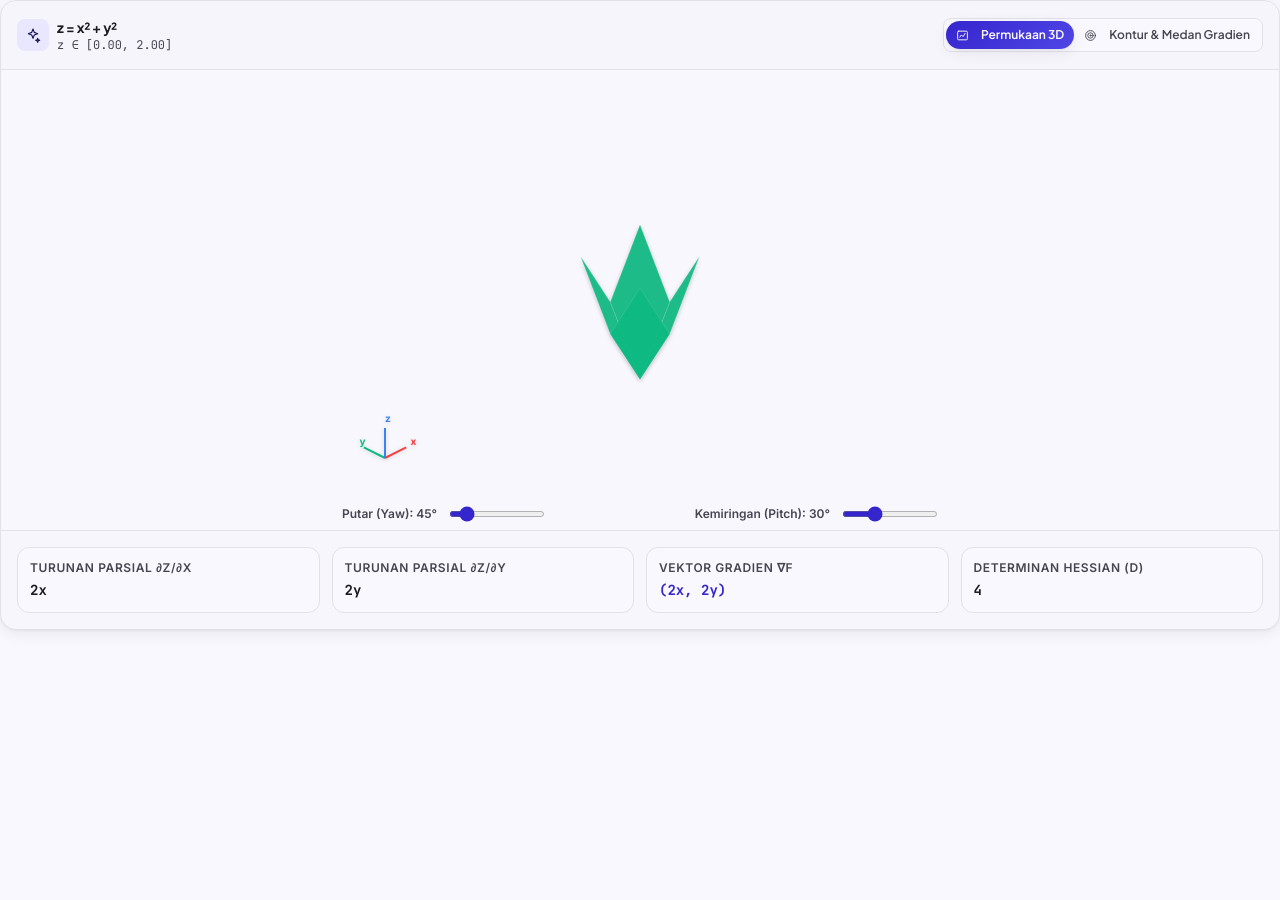
Test: MultivariablePlot › menampilkan nilai z saat kursor bergerak di peta kontur
This screenshot has width=1280, height=900.
Click the button "Kontur & Medan Gradien". click: (1167, 35)
box: [1074,21,1260,49]
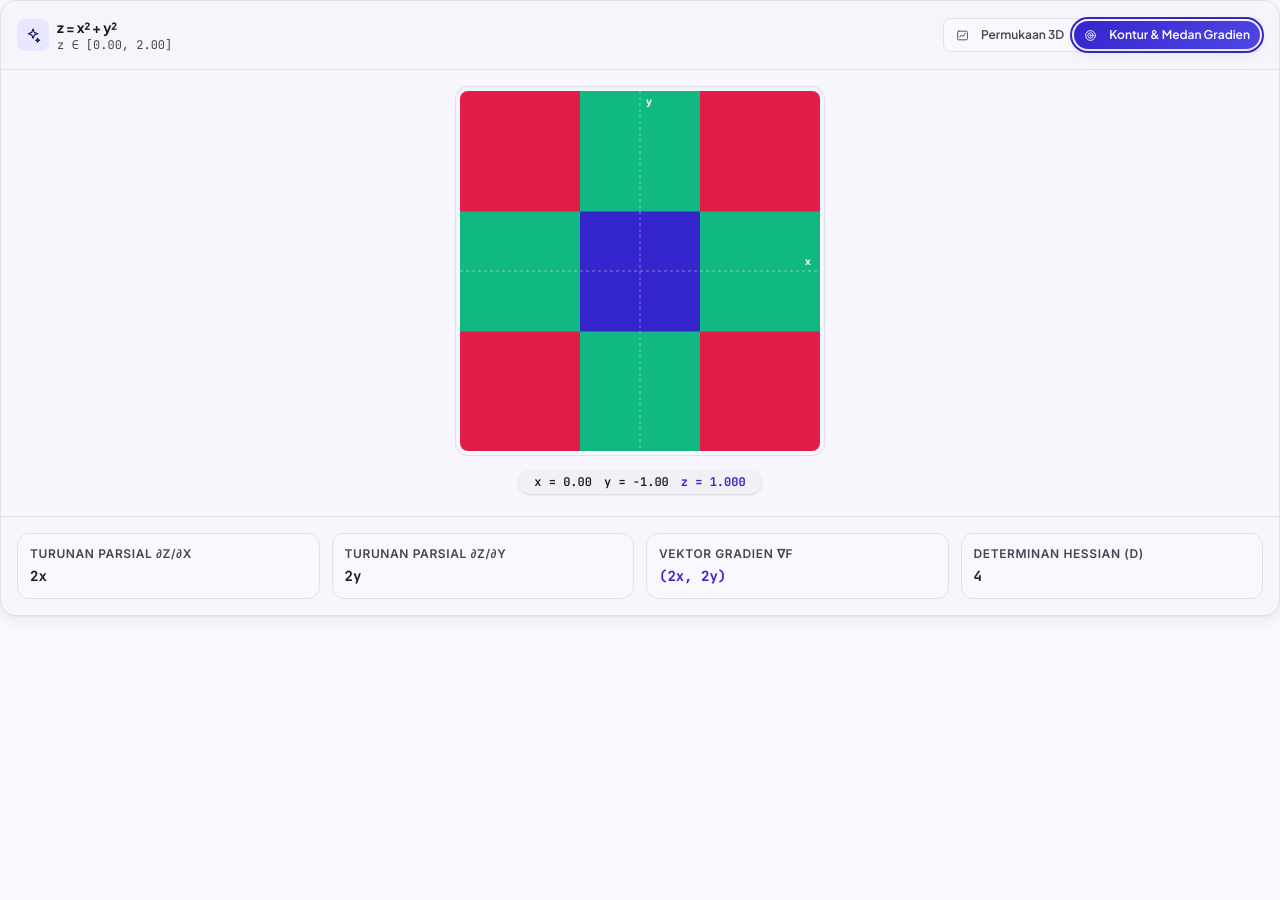
Check: the text "x = 0.00" is shown, box [534,474,592,490]
Check: the text "y = -1.00" is shown, box [604,474,669,490]
Check: the text "z = 1.000" is shown, box [681,474,746,490]
